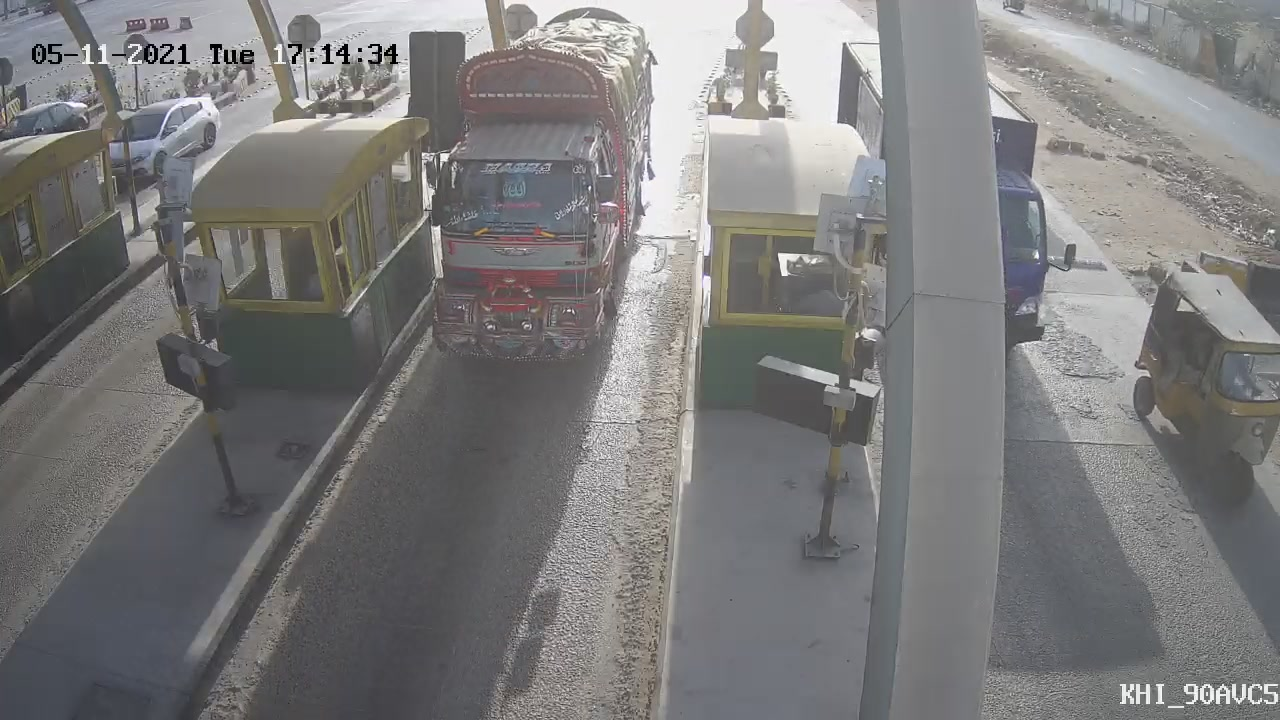F5: (390, 1, 682, 391)
